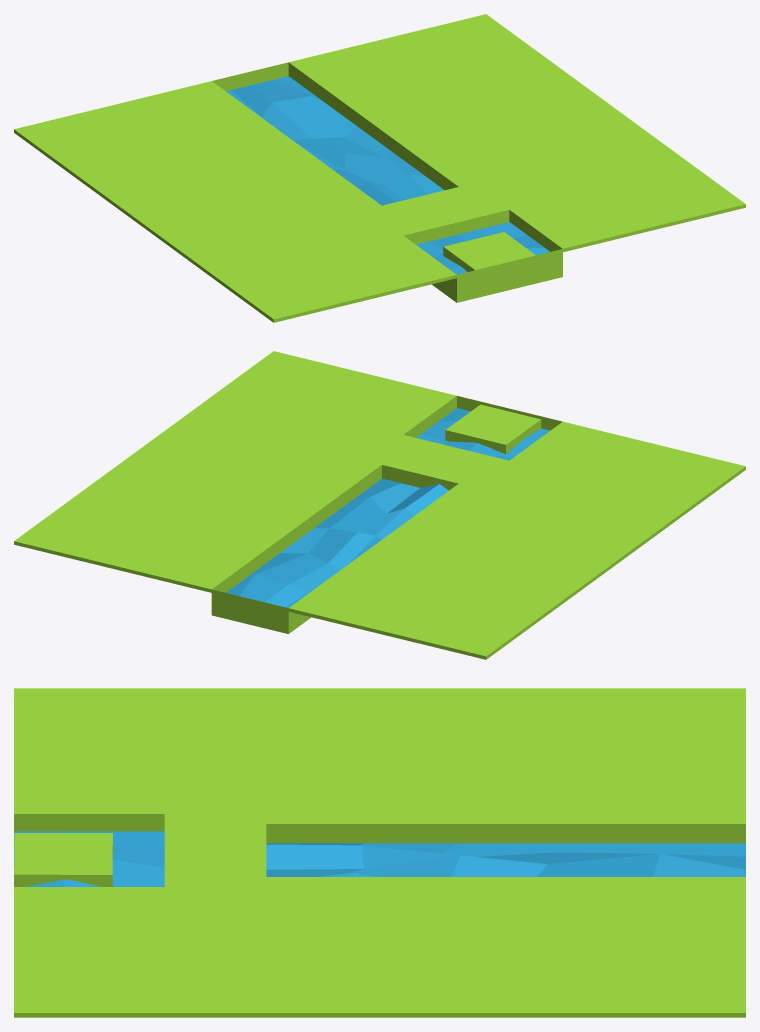
The model's file is rio_joan.fbx.
3 renders of one model, top to bottom at view 1: azimuth 30°, elevation 25°; view 2: azimuth 150°, elevation 25°; view 3: azimuth 270°, elevation 25°, orthographic. The views are drawn at different scales.
Visible parts, largest first — view 1: Cube.013; view 2: Cube.013; view 3: Cube.013.
Boxes of the visible parts, bbox=[...] form: Cube.013: bbox=[14, 14, 745, 322]; Cube.013: bbox=[14, 351, 745, 659]; Cube.013: bbox=[14, 688, 745, 1017].
Bounding box in the file's own units: 29690 × 1695 × 28284.
